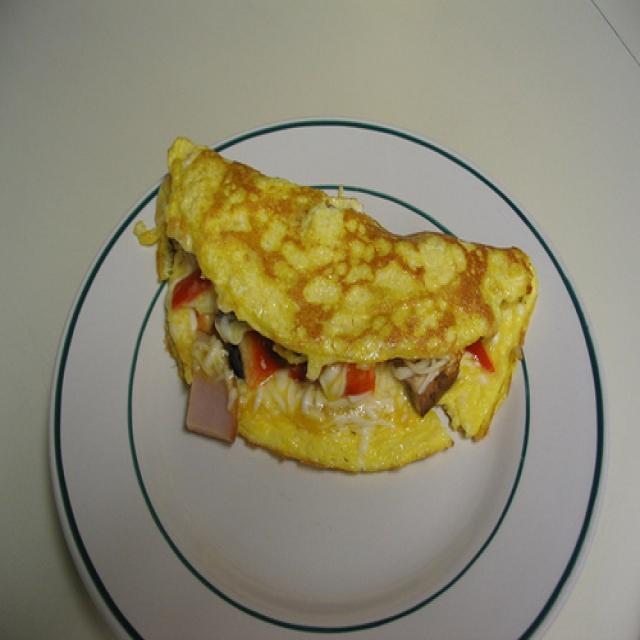Omelet: (130, 128, 536, 473)
